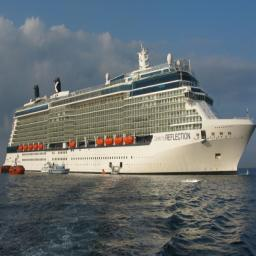cruises: (3, 40, 256, 180)
